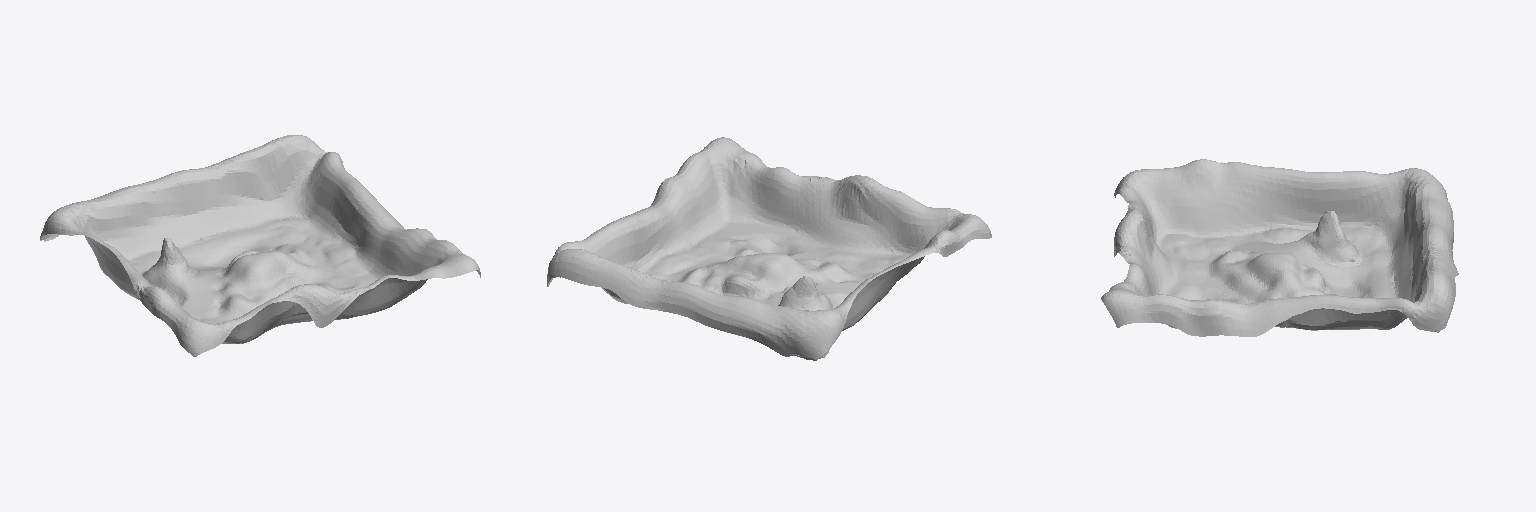
Rendered from vehicle_workshop_terrain2.obj.
3 views of the same model, side by side, from view 1: azimuth 30°, elevation 25°; view 2: azimuth 150°, elevation 25°; view 3: azimuth 270°, elevation 25° (orthographic).
Visible parts, largest first — view 1: Plane; view 2: Plane; view 3: Plane.
Part boxes in pixels (left/top/right/bottom): Plane: left=40, top=135, right=480, bottom=356; Plane: left=547, top=137, right=991, bottom=360; Plane: left=1101, top=159, right=1458, bottom=336.
Bounding box in the file's own units: 223 × 51.25 × 234.